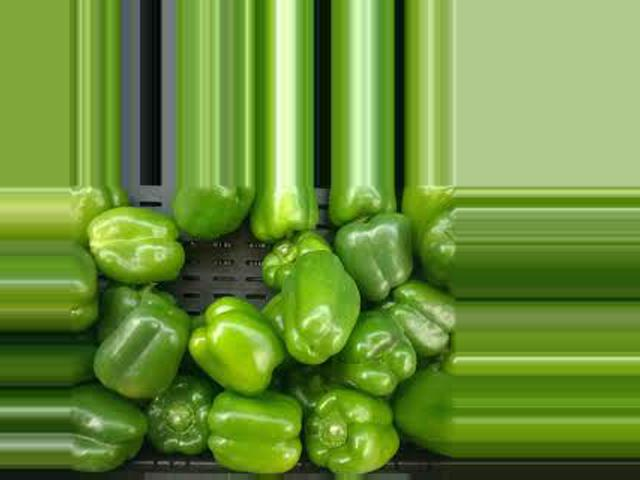bell_pepper: (395, 352, 458, 433)
